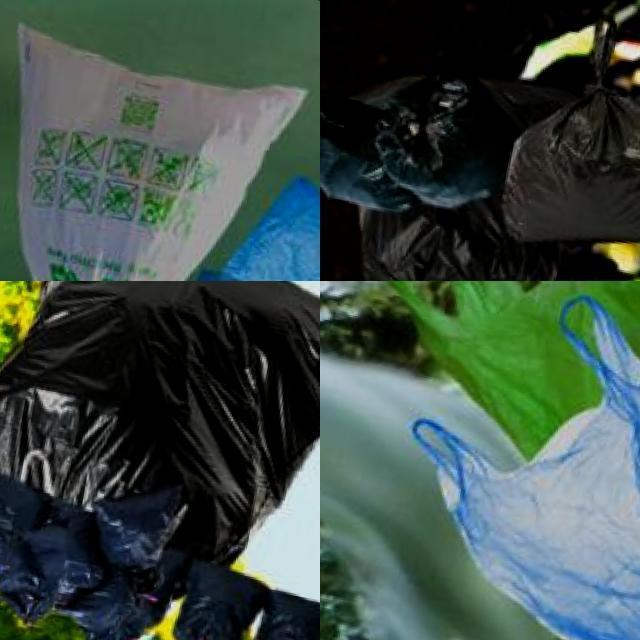waste: (0, 281, 320, 579), (381, 290, 640, 640), (0, 26, 301, 281), (328, 55, 595, 281), (390, 281, 640, 514), (500, 9, 640, 255), (0, 472, 80, 625), (92, 474, 192, 574), (173, 560, 270, 640), (73, 566, 165, 640), (255, 591, 320, 640)
